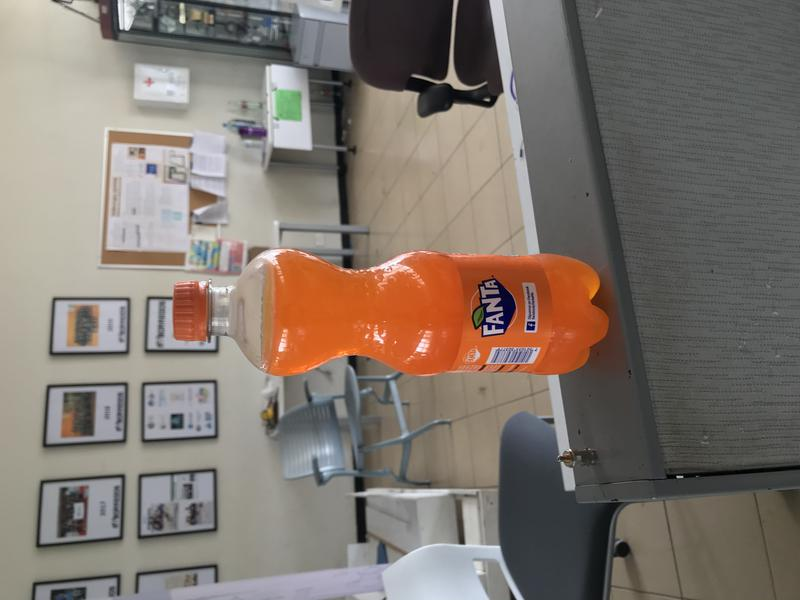fanta: (168, 247, 609, 378)
